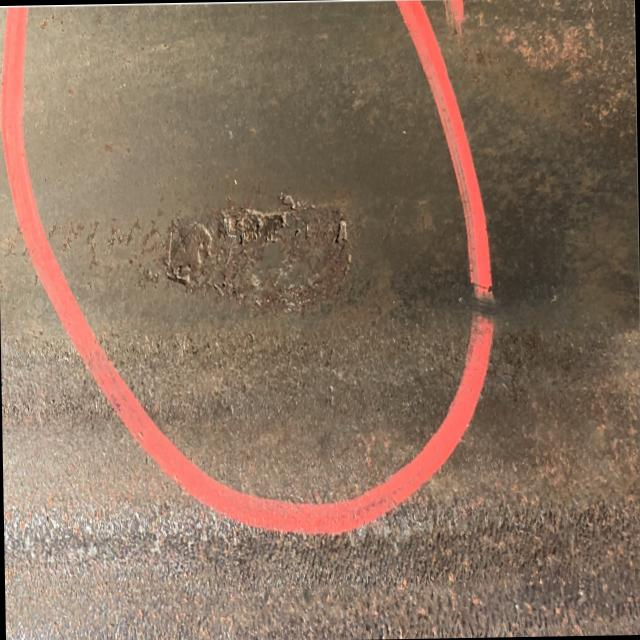Peeling: (158, 211, 285, 290), (332, 215, 350, 262), (283, 193, 298, 210), (296, 222, 310, 240)
